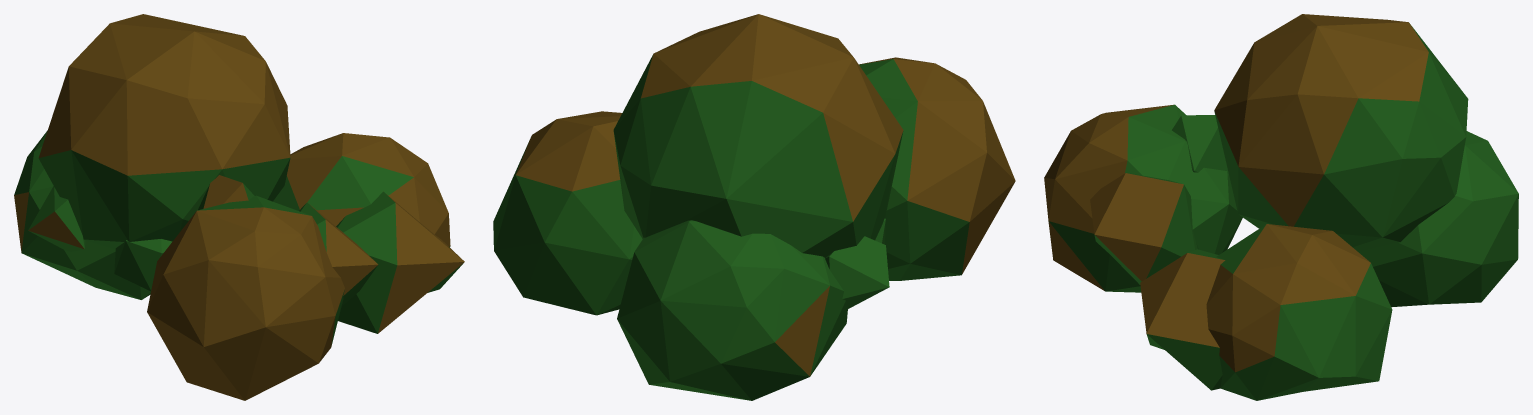
File: bush2.fbx
3 views of the same model, side by side, from view 1: azimuth 30°, elevation 25°; view 2: azimuth 150°, elevation 25°; view 3: azimuth 270°, elevation 25° (orthographic). The views are drawn at different scales.
Parts seen in each view (by area): view 1: bush 2; view 2: bush 2; view 3: bush 2.
Boxes of the visible parts, <box> form: bush 2: <box>14,14,464,400</box>; bush 2: <box>493,14,1015,400</box>; bush 2: <box>1044,14,1518,400</box>.
Bounding box in the file's own units: 266 × 183 × 292.
